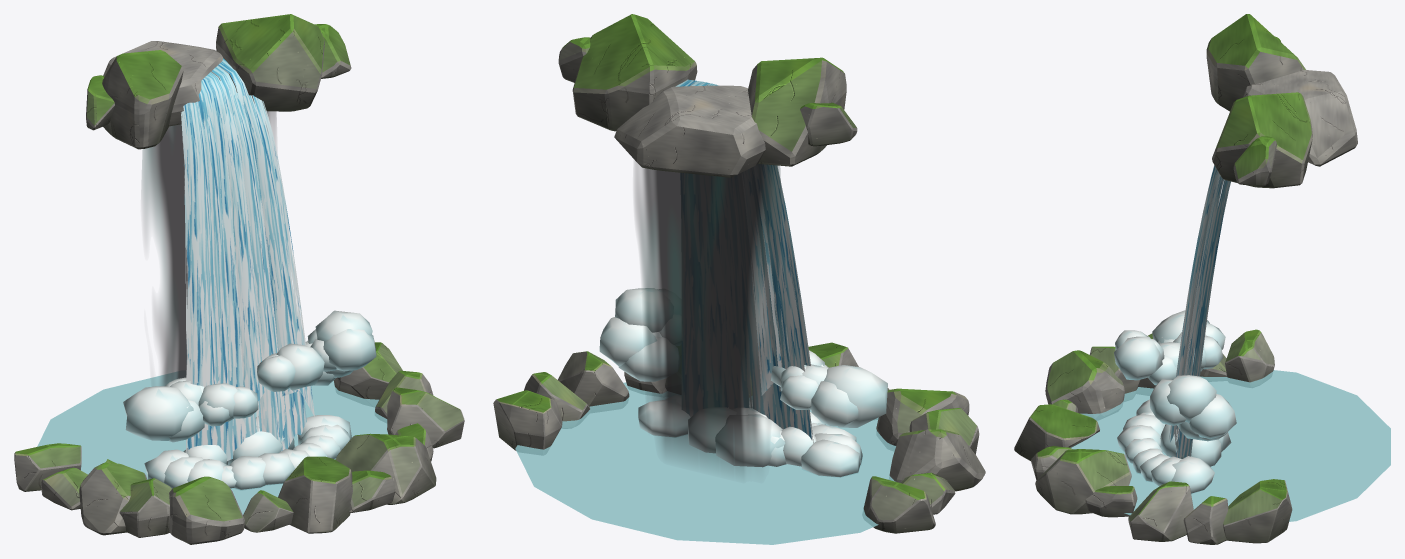
Rendered from fall_medium.glb.
3 views of the same model, side by side, from view 1: azimuth 30°, elevation 25°; view 2: azimuth 150°, elevation 25°; view 3: azimuth 270°, elevation 25° (orthographic). The views are drawn at different scales.
Parts seen in each view (by area): view 1: fall_medium_sheet, fall_medium_rim, fall_medium_lip, fall_medium_mist, fall_medium_pool, fall_medium_wet, fall_medium_foam; view 2: fall_medium_wet, fall_medium_pool, fall_medium_lip, fall_medium_rim, fall_medium_sheet, fall_medium_mist, fall_medium_foam; view 3: fall_medium_rim, fall_medium_pool, fall_medium_lip, fall_medium_mist, fall_medium_foam, fall_medium_sheet.
Boxes of the visible parts, x1,y1,x2,y2 form: fall_medium_sheet: (181, 58, 314, 460); fall_medium_rim: (14, 342, 464, 544); fall_medium_lip: (86, 14, 351, 149); fall_medium_mist: (123, 310, 376, 442); fall_medium_pool: (37, 371, 388, 514); fall_medium_wet: (142, 73, 276, 385); fall_medium_foam: (144, 415, 351, 489); fall_medium_wet: (634, 161, 781, 473); fall_medium_pool: (515, 382, 895, 544); fall_medium_lip: (558, 14, 857, 177); fall_medium_rim: (493, 342, 985, 533); fall_medium_sheet: (675, 79, 813, 443); fall_medium_mist: (599, 288, 887, 427); fall_medium_foam: (638, 399, 862, 477); fall_medium_rim: (1014, 329, 1292, 544); fall_medium_pool: (1071, 370, 1390, 521); fall_medium_lip: (1206, 14, 1357, 188); fall_medium_mist: (1114, 310, 1236, 441); fall_medium_foam: (1117, 399, 1231, 493); fall_medium_sheet: (1169, 165, 1230, 458).
Bounding box in the file's own units: 9.34 × 9.33 × 7.97.
6 materials, 5 textured.
